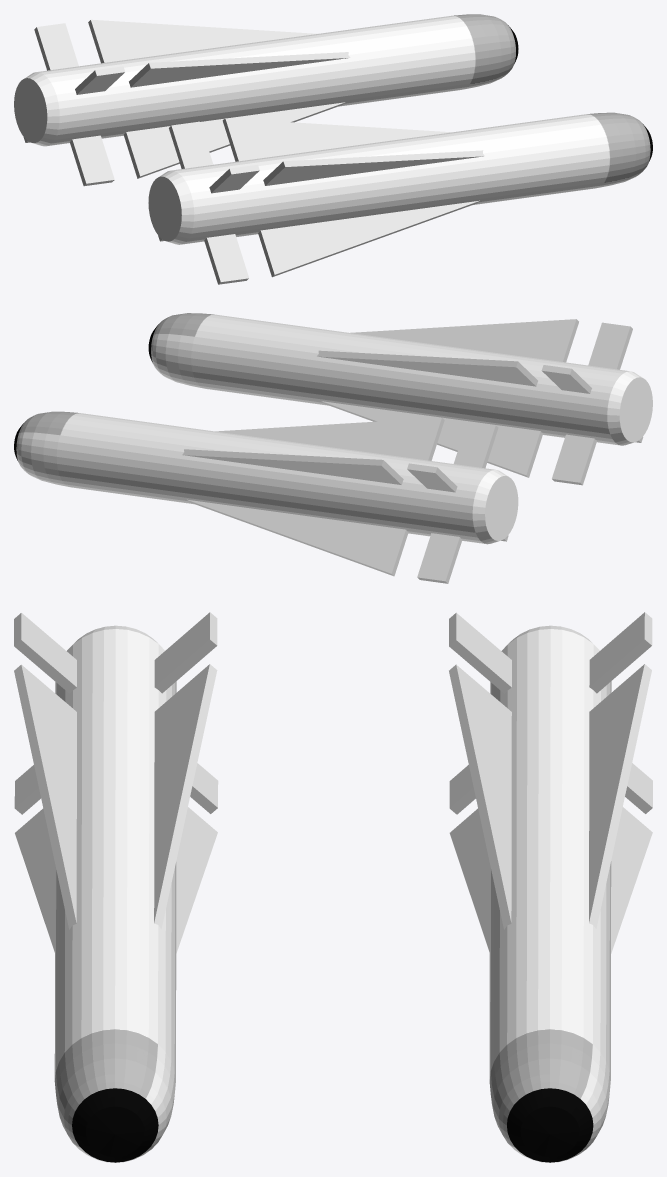
Rendered from a10cagm6556.glb.
3 renders of one model, top to bottom at view 1: azimuth 30°, elevation 25°; view 2: azimuth 150°, elevation 25°; view 3: azimuth 270°, elevation 25°, orthographic. The views are drawn at different scales.
Visible parts, largest first — view 1: 立方体.008, 立方体.010; view 2: 立方体.010, 立方体.008; view 3: 立方体.010, 立方体.008.
Boxes of the visible parts, x1=… form: 立方体.008: x1=148, y1=112, x2=652, y2=284; 立方体.010: x1=14, y1=14, x2=518, y2=186; 立方体.010: x1=14, y1=411, x2=518, y2=583; 立方体.008: x1=148, y1=313, x2=652, y2=485; 立方体.010: x1=449, y1=612, x2=652, y2=1162; 立方体.008: x1=14, y1=612, x2=218, y2=1162.
Bounding box in the file's own units: 2.52 × 0.6673 × 1.78.
Materials: 1 (1 with a texture image).
